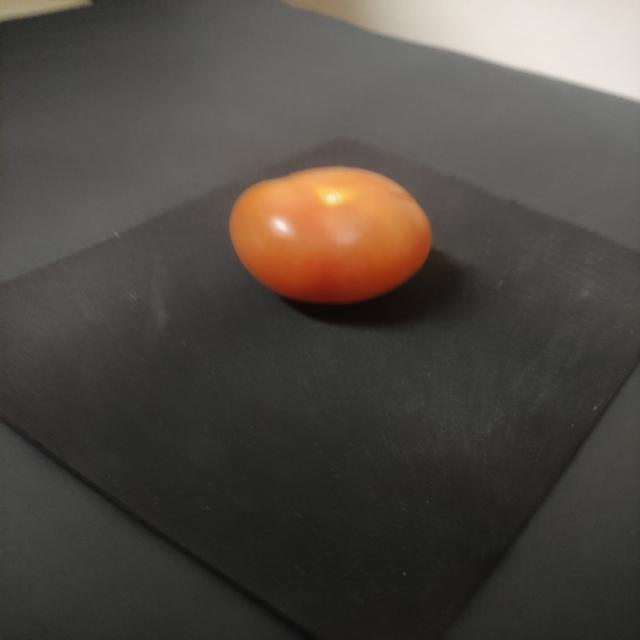sari: (227, 154, 446, 314)
